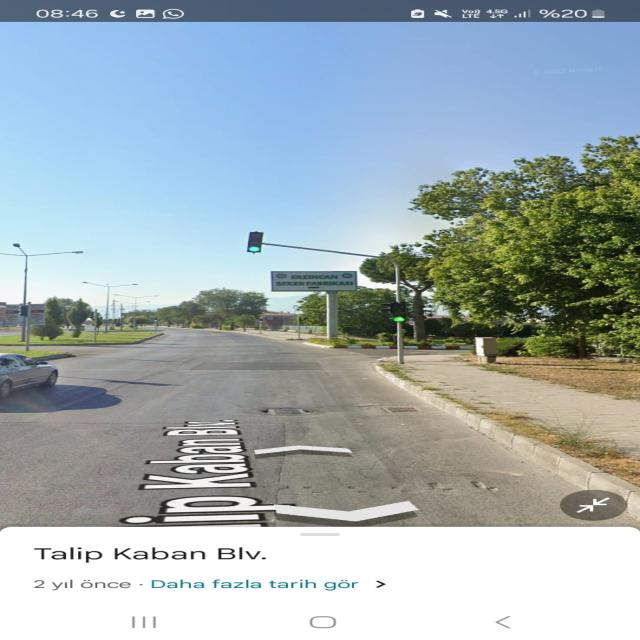yesil: (247, 232, 263, 253), (391, 303, 406, 323)
